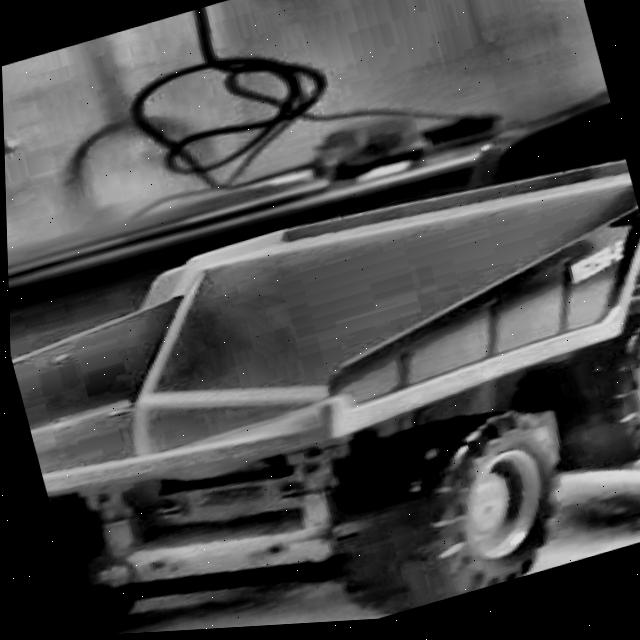dump_truck: (4, 146, 640, 640)
light_vehicle: (308, 113, 437, 198)
